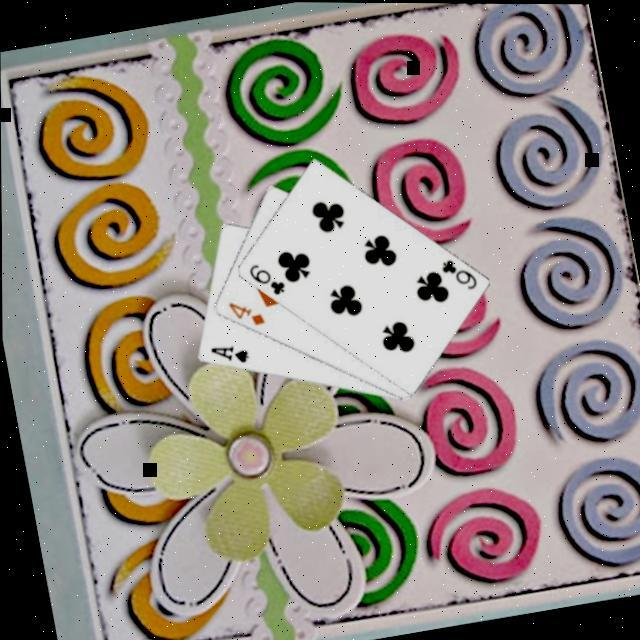4D: (224, 292, 268, 331)
6C: (244, 254, 288, 300), (436, 250, 481, 294)
AS: (206, 336, 252, 369)
